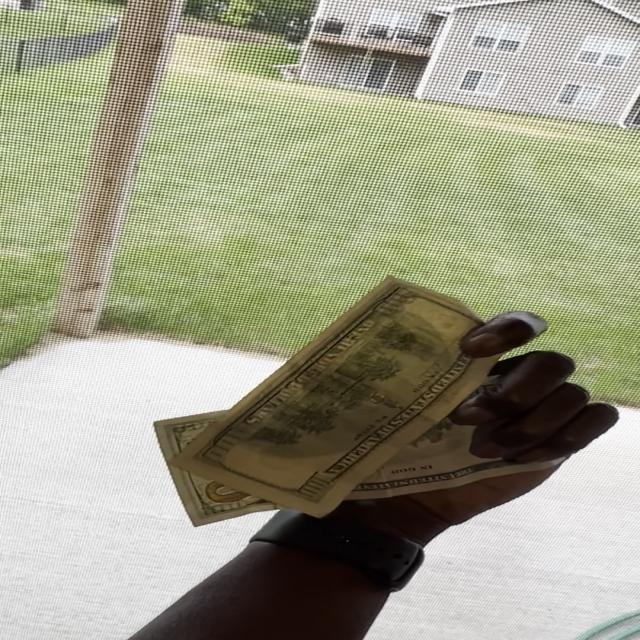hundred: (174, 274, 516, 516), (154, 378, 570, 526)
